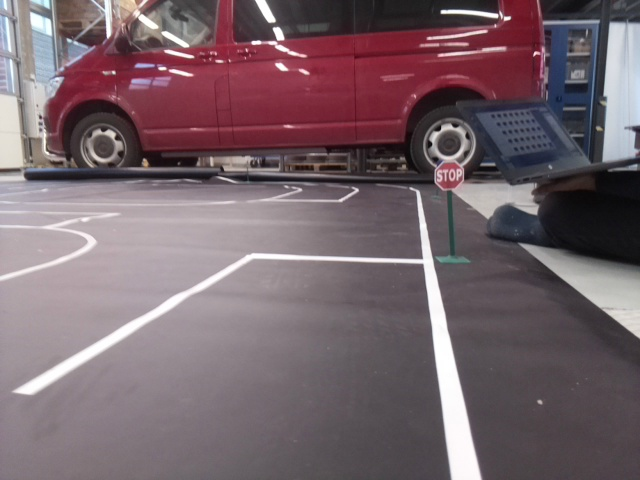Stop: (433, 158, 463, 189)
